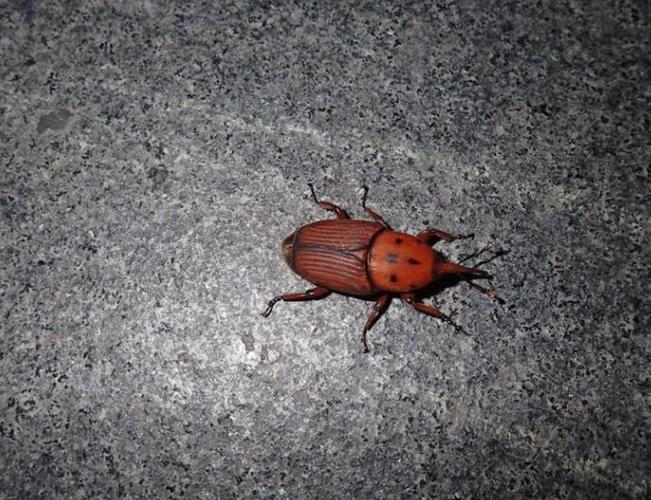Curculionidae: (261, 181, 498, 354)
